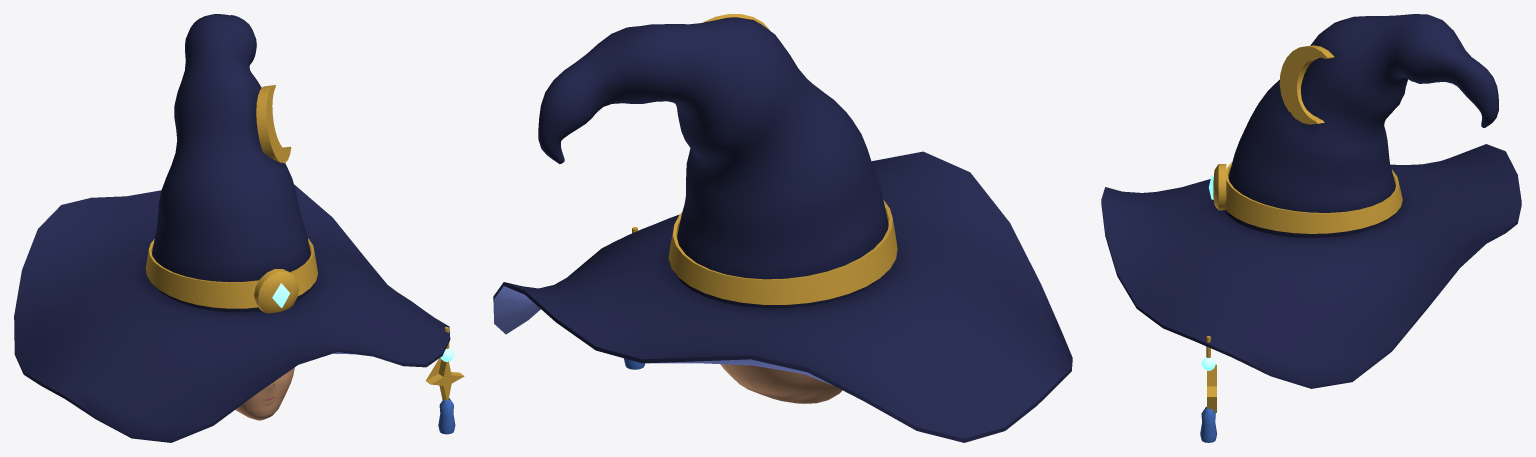
File: h_archmage_f.glb
3 views of the same model, side by side, from view 1: azimuth 30°, elevation 25°; view 2: azimuth 150°, elevation 25°; view 3: azimuth 270°, elevation 25° (orthographic). The views are drawn at different scales.
Visible parts, largest first — view 1: ArchHat, HeadMesh; view 2: ArchHat, HeadMesh; view 3: ArchHat.
Part boxes in pixels (x1,y1,x2,y2): ArchHat: (14,14,464,442); HeadMesh: (235,367,294,420); ArchHat: (493,14,1072,442); HeadMesh: (720,364,842,403); ArchHat: (1101,14,1521,442).
Bounding box in the file's own units: 0.67 × 0.6079 × 0.64.
